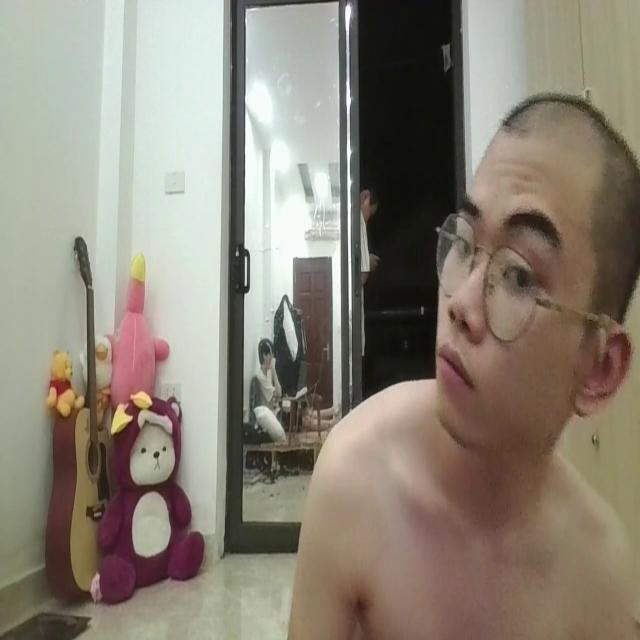extra_person: (244, 324, 315, 460), (348, 144, 385, 393)
student: (284, 77, 640, 640)
